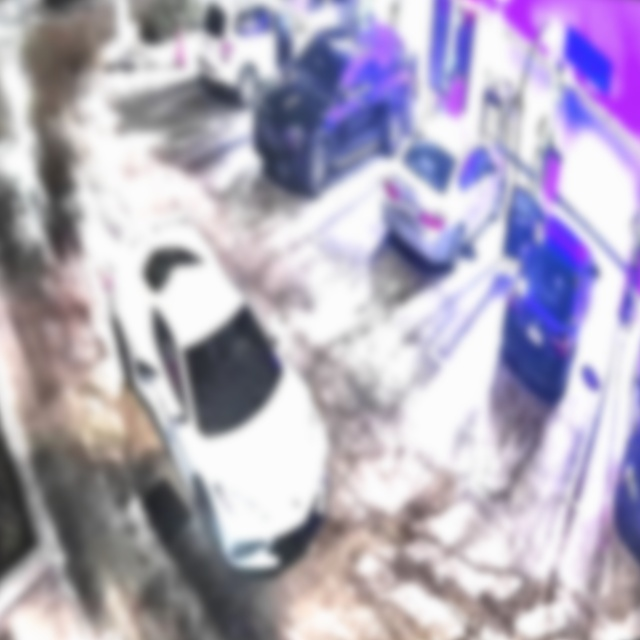Car: (107, 201, 333, 576), (254, 6, 417, 201), (378, 105, 510, 270)
